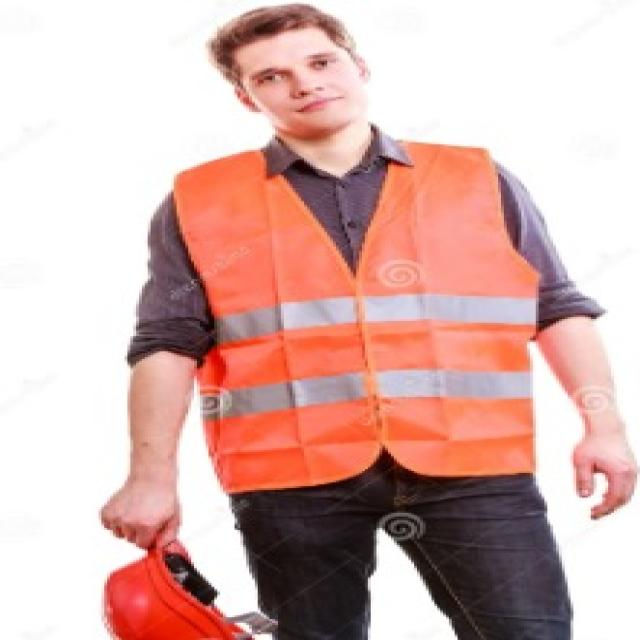not-gloved: (86, 464, 201, 549), (561, 426, 635, 524)
